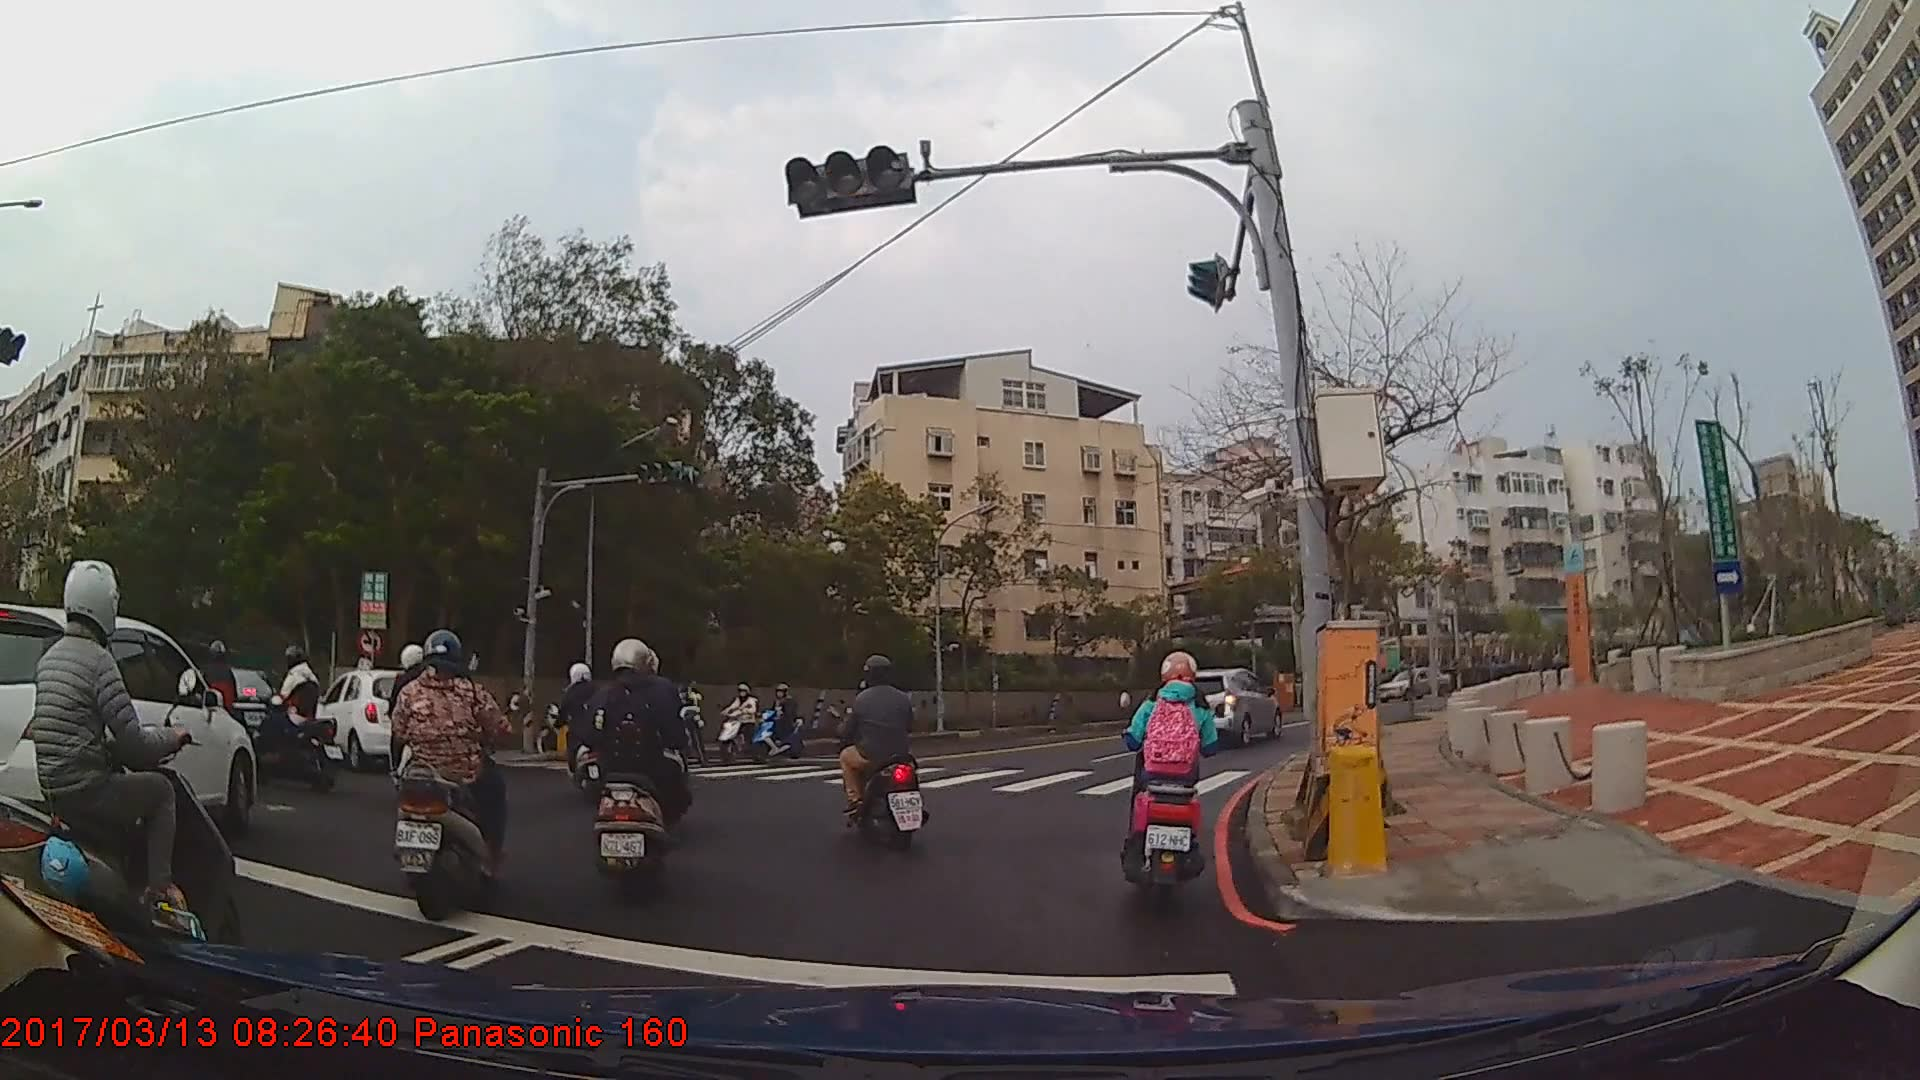pedestrian: (676, 675, 714, 771)
rider: (1, 559, 242, 1001), (389, 631, 513, 921), (579, 638, 692, 901), (1127, 651, 1228, 904), (832, 650, 925, 852), (541, 661, 624, 805), (259, 644, 329, 789), (180, 640, 244, 776), (755, 684, 807, 763), (722, 682, 764, 761)
vehicle: (0, 605, 255, 849), (304, 669, 434, 767), (1159, 668, 1282, 749), (1378, 665, 1452, 702)
